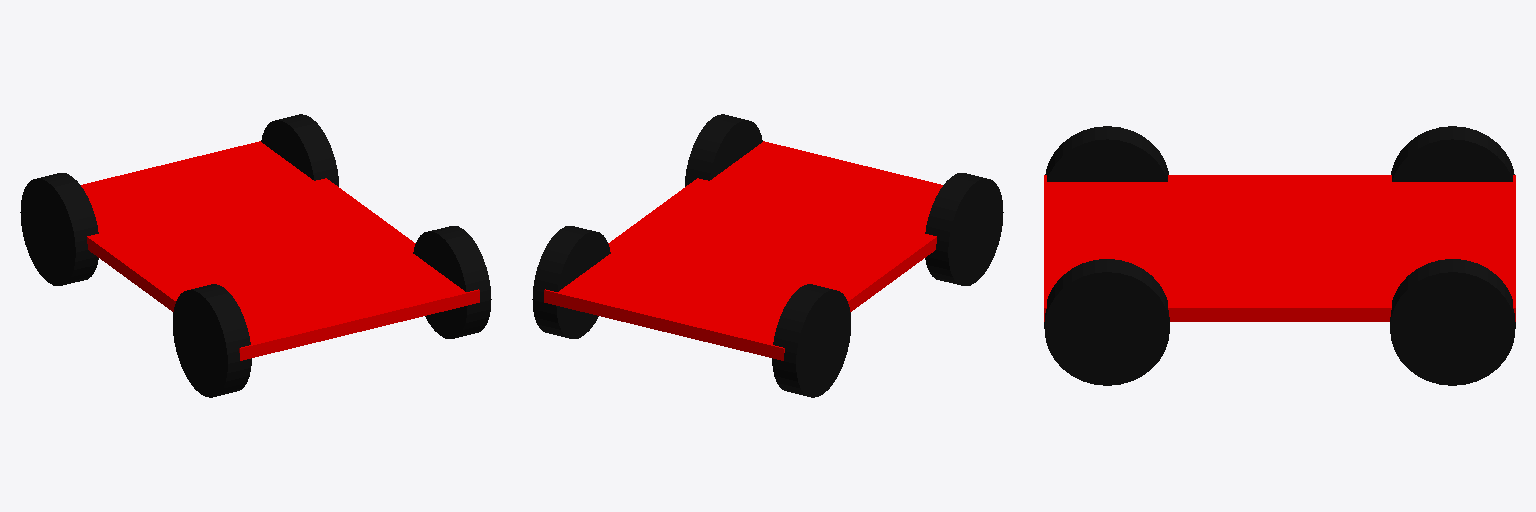
The robot description file, URDF, robot "shakti":
<?xml version="1.0" ?>
<!-- =================================================================================== -->
<!-- |    This document was autogenerated by xacro from robot.urdf.xacro               | -->
<!-- |    EDITING THIS FILE BY HAND IS NOT RECOMMENDED                                 | -->
<!-- =================================================================================== -->
<robot name="shakti">
  <link name="world"/>
  <joint name="base_j" type="fixed">
    <origin rpy="0 0 0" xyz="0 0 0.04"/>
    <parent link="world"/>
    <child link="base_l"/>
  </joint>
  <link name="base_l">
    <visual>
      <origin rpy="0 0 0" xyz="0 0 0.005"/>
      <geometry>
        <box size="0.2 0.3 0.01"/>
      </geometry>
      <material name="red">
        <color rgba="1.0 0.0 0.0 1.0"/>
      </material>
    </visual>
    <collision>
      <origin rpy="0 0 0" xyz="0 0 0.005"/>
      <geometry>
        <box size="0.3 0.2 0.01"/>
      </geometry>
    </collision>
    <inertial>
      <origin rpy="0 0 0" xyz="0 0 0.005"/>
      <mass value="1.0"/>
      <inertia ixx="0.0033416666666666673" ixy="0.0" ixz="0.0" iyy="0.007508333333333333" iyz="0.0" izz="0.010833333333333334"/>
    </inertial>
  </link>
  <joint name="base_to_frontleft" type="continuous">
    <origin rpy="0 0 0" xyz="-0.1 0.11 0"/>
    <parent link="base_l"/>
    <child link="front_left_wheel"/>
    <axis xyz="1 0 0"/>
  </joint>
  <link name="front_left_wheel">
    <visual>
      <origin rpy="0 1.5708 0" xyz="0 0 0"/>
      <geometry>
        <cylinder length="0.02" radius="0.04"/>
      </geometry>
      <material name="black">
        <color rgba="0.1 0.1 0.1 1"/>
      </material>
    </visual>
    <collision>
      <origin rpy="0 1.5708 0" xyz="0 0 0"/>
      <geometry>
        <cylinder length="0.02" radius="0.04"/>
      </geometry>
    </collision>
    <inertial>
      <origin rpy="0 1.5708 0" xyz="0 0 0"/>
      <mass value="0.2"/>
      <inertia ixx="8.666666666666667e-05" ixy="0.0" ixz="0.0" iyy="0.00016" iyz="0.0" izz="8.666666666666667e-05"/>
    </inertial>
  </link>
  <joint name="base_to_frontright" type="continuous">
    <origin rpy="0 0 0" xyz="0.1 0.11 0"/>
    <parent link="base_l"/>
    <child link="front_right_wheel"/>
    <axis xyz="1 0 0"/>
  </joint>
  <link name="front_right_wheel">
    <visual>
      <origin rpy="0 1.5708 0" xyz="0 0 0"/>
      <geometry>
        <cylinder length="0.02" radius="0.04"/>
      </geometry>
      <material name="black">
        <color rgba="0.1 0.1 0.1 1"/>
      </material>
    </visual>
    <collision>
      <origin rpy="0 1.5708 0" xyz="0 0 0"/>
      <geometry>
        <cylinder length="0.02" radius="0.04"/>
      </geometry>
    </collision>
    <inertial>
      <origin rpy="0 1.5708 0" xyz="0 0 0"/>
      <mass value="0.2"/>
      <inertia ixx="8.666666666666667e-05" ixy="0.0" ixz="0.0" iyy="0.00016" iyz="0.0" izz="8.666666666666667e-05"/>
    </inertial>
  </link>
  <joint name="base_to_backleft" type="continuous">
    <origin rpy="0 0 0" xyz="-0.1 -0.11 0"/>
    <parent link="base_l"/>
    <child link="back_left_wheel"/>
    <axis xyz="1 0 0"/>
  </joint>
  <link name="back_left_wheel">
    <visual>
      <origin rpy="0 1.5708 0" xyz="0 0 0"/>
      <geometry>
        <cylinder length="0.02" radius="0.04"/>
      </geometry>
      <material name="black">
        <color rgba="0.1 0.1 0.1 1"/>
      </material>
    </visual>
    <collision>
      <origin rpy="0 1.5708 0" xyz="0 0 0"/>
      <geometry>
        <cylinder length="0.02" radius="0.04"/>
      </geometry>
    </collision>
    <inertial>
      <origin rpy="0 1.5708 0" xyz="0 0 0"/>
      <mass value="0.2"/>
      <inertia ixx="8.666666666666667e-05" ixy="0.0" ixz="0.0" iyy="0.00016" iyz="0.0" izz="8.666666666666667e-05"/>
    </inertial>
  </link>
  <joint name="base_to_backright" type="continuous">
    <origin rpy="0 0 0" xyz="0.1 -0.11 0"/>
    <parent link="base_l"/>
    <child link="back_right_wheel"/>
    <axis xyz="1 0 0"/>
  </joint>
  <link name="back_right_wheel">
    <visual>
      <origin rpy="0 1.5708 0" xyz="0 0 0"/>
      <geometry>
        <cylinder length="0.02" radius="0.04"/>
      </geometry>
      <material name="black">
        <color rgba="0.1 0.1 0.1 1"/>
      </material>
    </visual>
    <collision>
      <origin rpy="0 1.5708 0" xyz="0 0 0"/>
      <geometry>
        <cylinder length="0.02" radius="0.04"/>
      </geometry>
    </collision>
    <inertial>
      <origin rpy="0 1.5708 0" xyz="0 0 0"/>
      <mass value="0.2"/>
      <inertia ixx="8.666666666666667e-05" ixy="0.0" ixz="0.0" iyy="0.00016" iyz="0.0" izz="8.666666666666667e-05"/>
    </inertial>
  </link>
</robot>

--- Render facts (derived) ---
Views: 3 orthographic renders of the robot side by side, from view 1: azimuth 30°, elevation 25°; view 2: azimuth 150°, elevation 25°; view 3: azimuth 270°, elevation 25°.
Model shakti with 6 links and 5 joints (4 continuous, 1 fixed), rooted at world, posed every joint at zero.
Visible links, largest first — view 1: base_l, back_left_wheel, front_left_wheel, back_right_wheel, front_right_wheel; view 2: base_l, front_left_wheel, back_left_wheel, front_right_wheel, back_right_wheel; view 3: base_l, front_right_wheel, back_right_wheel, front_left_wheel, back_left_wheel.
Link boxes in pixels (<box>): base_l: <box>81,141,479,360</box>; back_left_wheel: <box>173,284,251,397</box>; front_left_wheel: <box>20,173,98,285</box>; back_right_wheel: <box>413,226,491,338</box>; front_right_wheel: <box>261,114,338,186</box>; base_l: <box>544,141,942,360</box>; front_left_wheel: <box>772,284,850,397</box>; back_left_wheel: <box>925,173,1003,285</box>; front_right_wheel: <box>532,226,610,338</box>; back_right_wheel: <box>685,114,762,186</box>; base_l: <box>1044,175,1515,321</box>; front_right_wheel: <box>1390,259,1515,385</box>; back_right_wheel: <box>1044,259,1169,385</box>; front_left_wheel: <box>1391,126,1514,181</box>; back_left_wheel: <box>1045,126,1168,181</box>.
Size in the robot's own frame: 0.22 by 0.3 by 0.08 metres.
Geometry: primitives only (box / cylinder / sphere), no mesh files.
